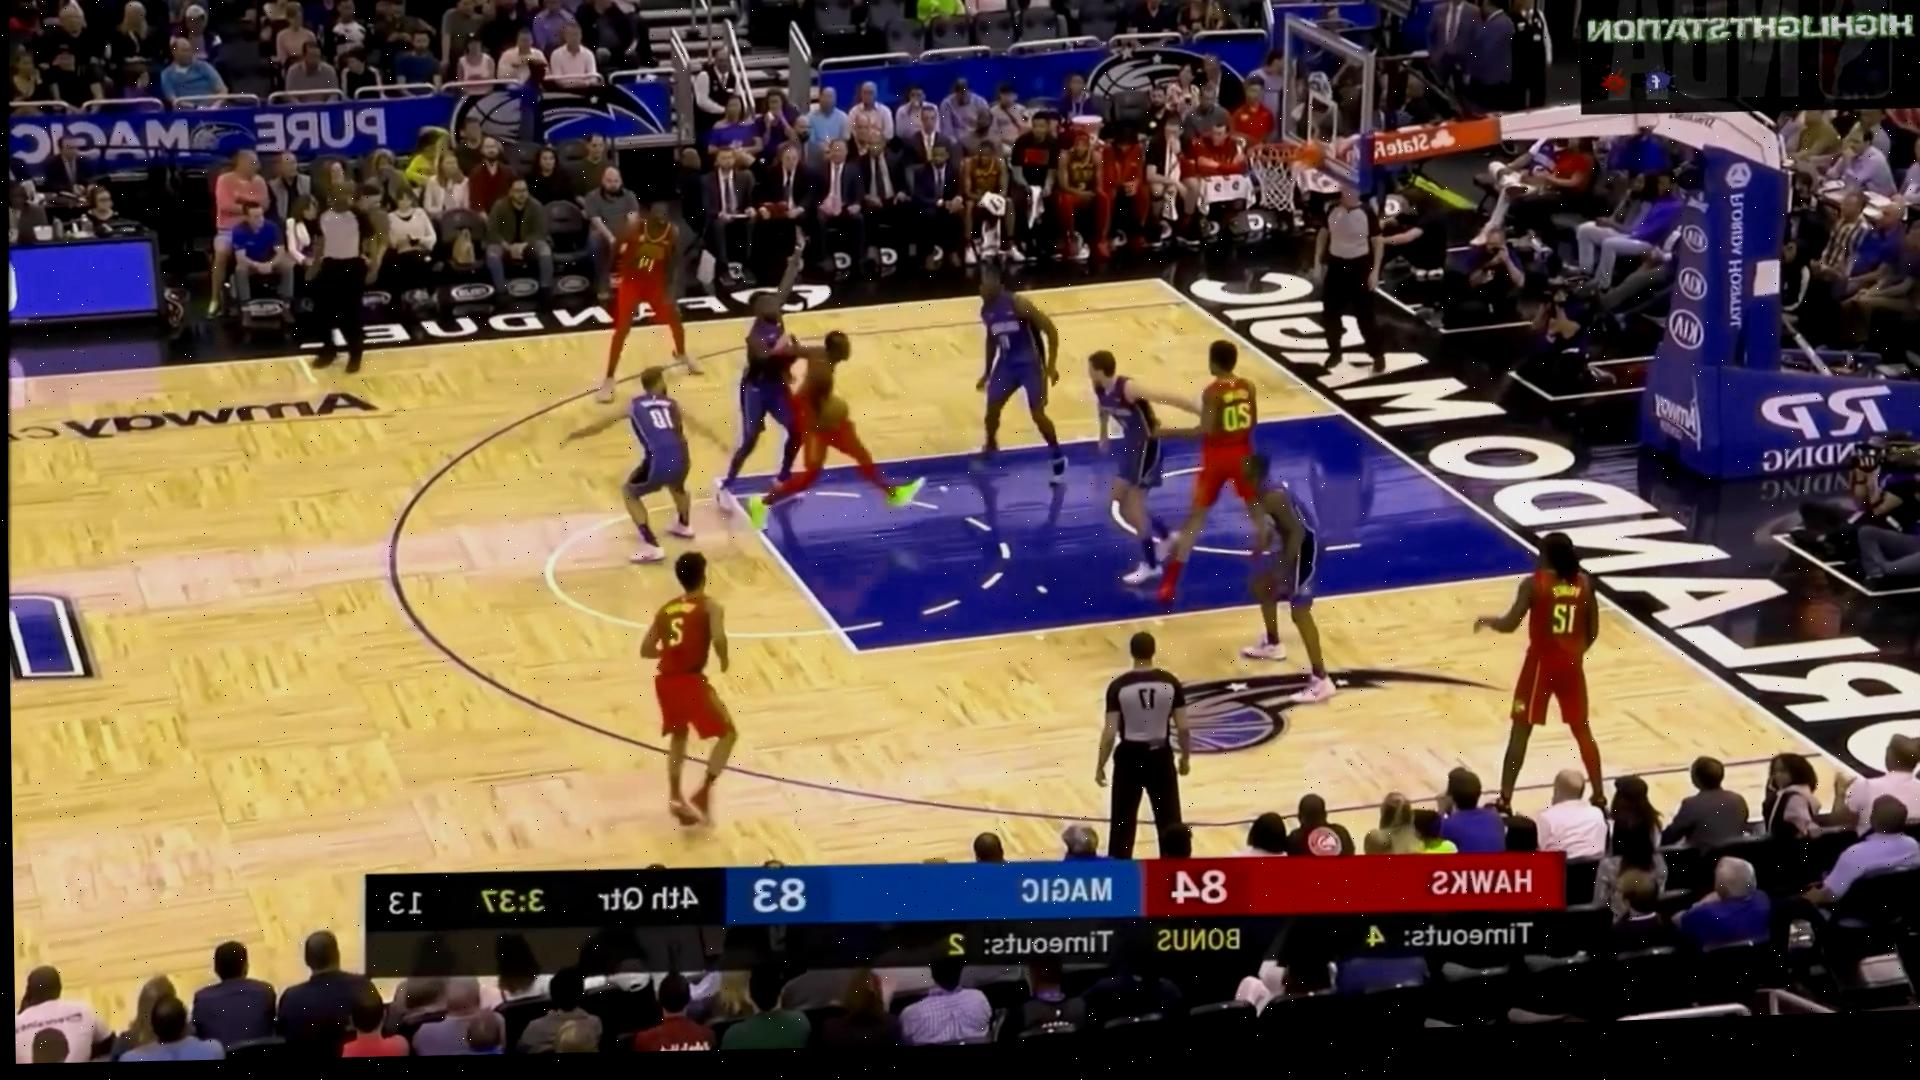no_foul: (710, 267, 912, 528)
